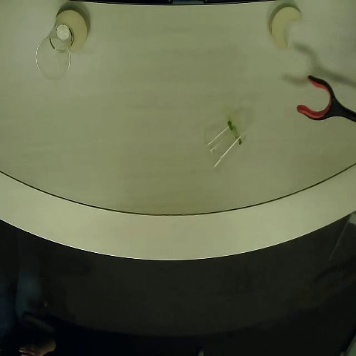empty_cup: (199, 109, 247, 173), (31, 20, 79, 84)
puck: (52, 6, 91, 54), (264, 3, 303, 51)
